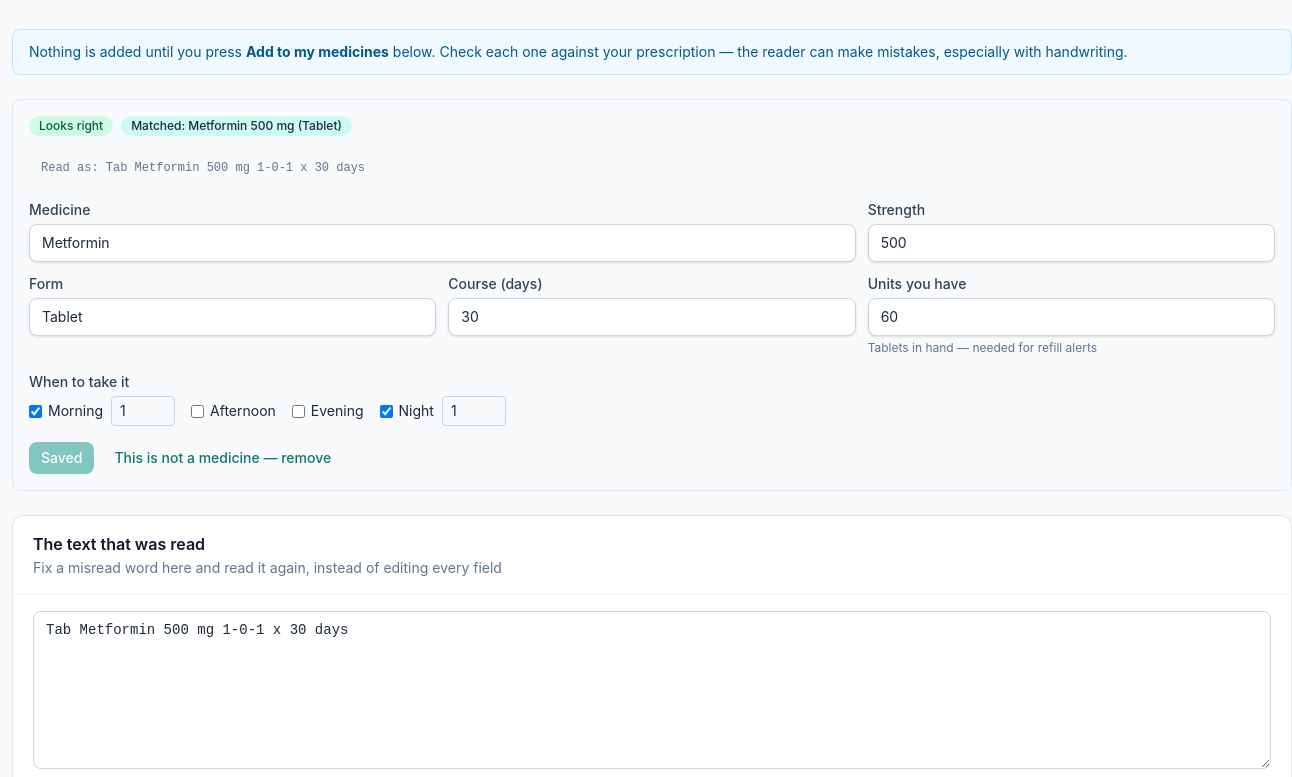
Scenario: ScanReview › will not add while an edit is unsaved
In the field labelled "Strength": (1071, 243) [868,224,1275,262], type "0"
(page scrolled)
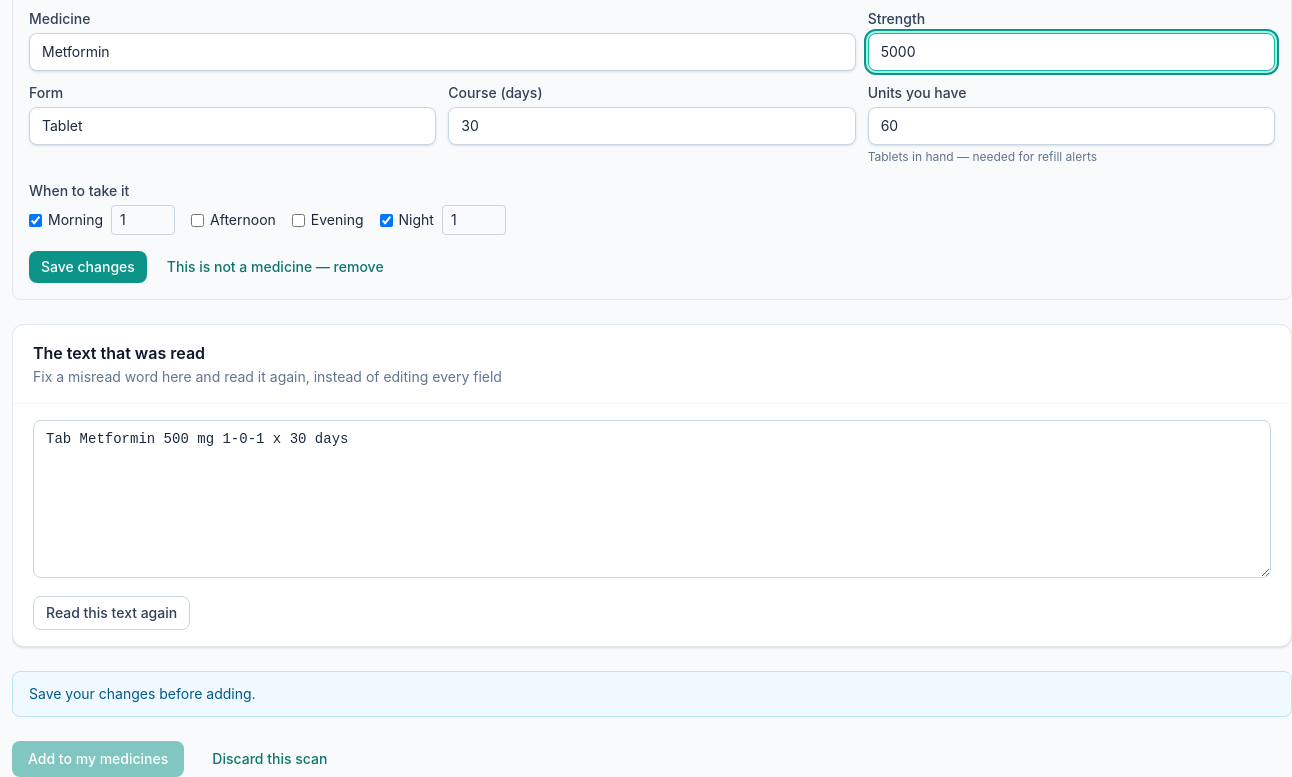
Check: the button "Add to my medicines" is disabled, box [12,741,184,776]
Check: the text "Save your changes before adding." is shown, box [12,671,1291,717]
